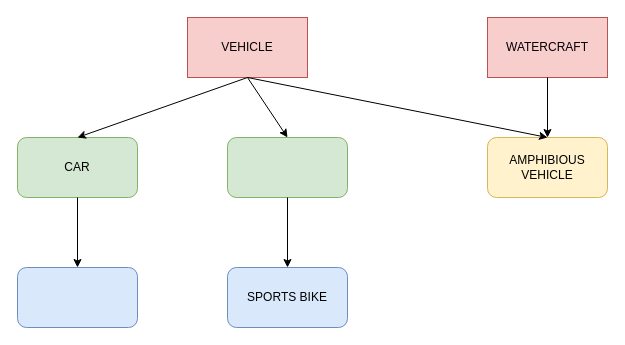
The diagram is 625 pixels wide and 345 high, and some of its shapes have lost their labels. Each missing label, with the centre of its shape:
BIKE: the point at 287,167
SPORTS CAR: the point at 77,297
